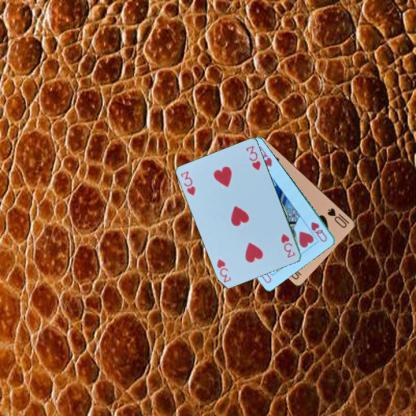10s: (324, 205, 350, 229)
3h: (278, 231, 297, 259), (178, 169, 197, 197)
Qh: (308, 219, 328, 243)
